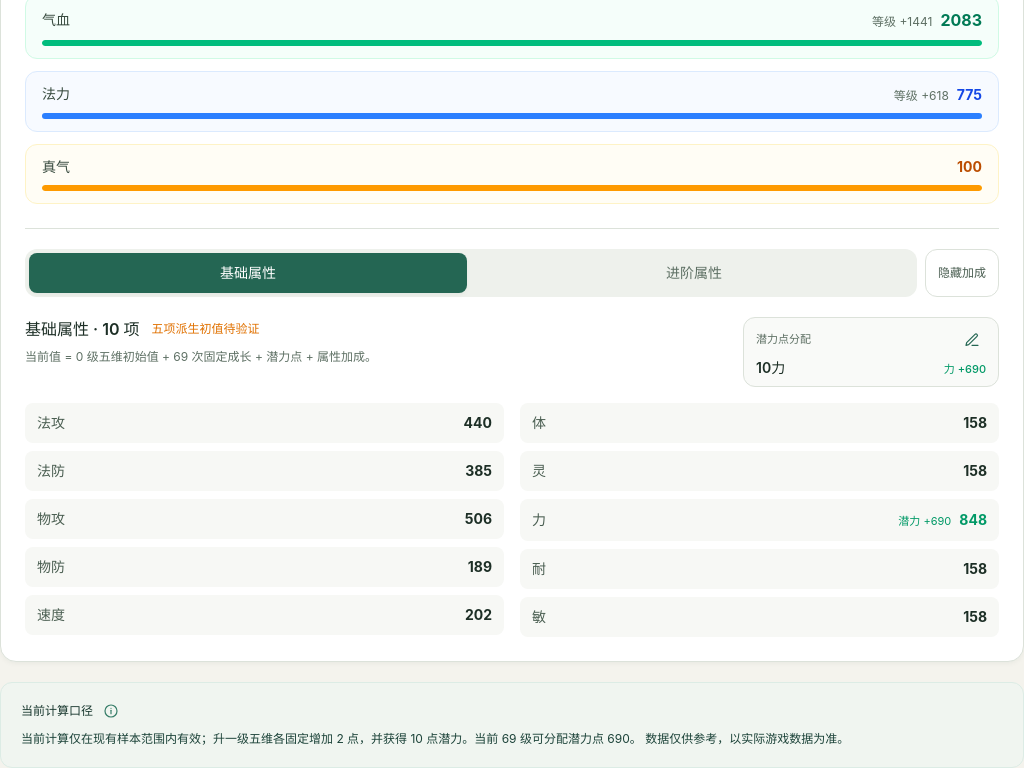
Scenario: CharacterAttributeCalculator › 应该通过信息弹窗说明当前计算口径和数据范围
This screenshot has width=1024, height=768.
(page scrolled)
Check: the text "当前计算仅在现有样本范围内有效" is shown, box 21,730 -> 502,746
Click the button named "查看当前计算口径详情": (111, 710) 99,698 -> 123,722
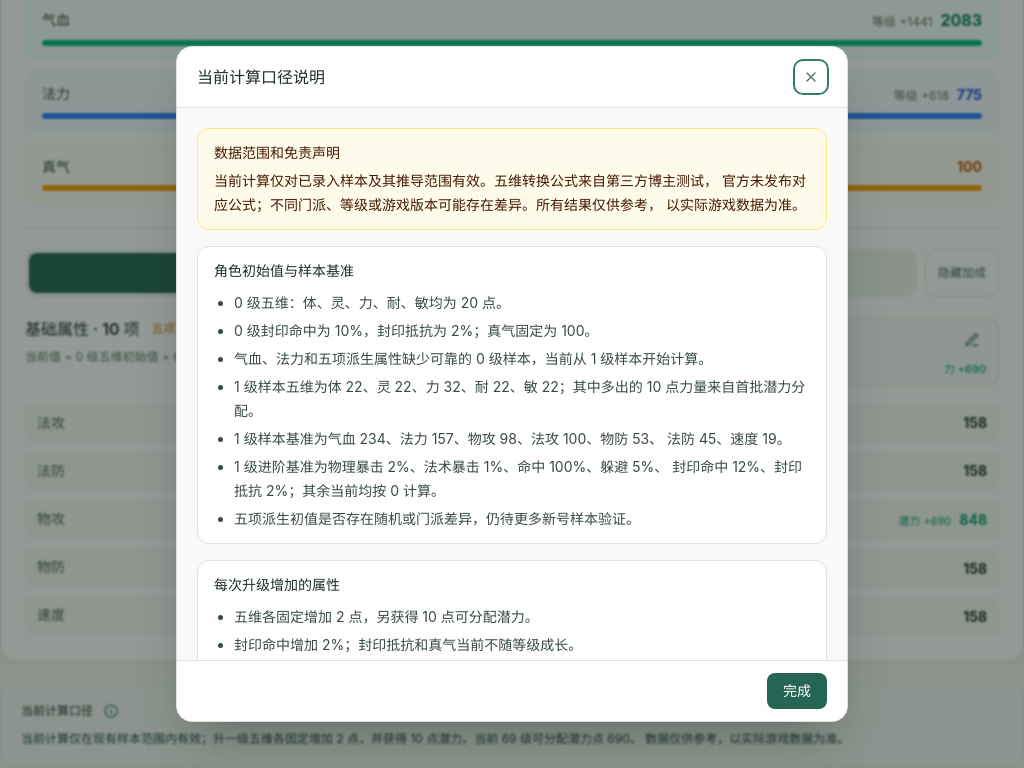
Check: the dialog "当前计算口径说明" shows "五维转换公式来自第三方博主测试， 官方未发布对应公式", box 214,172 -> 806,213
Check: the dialog "当前计算口径说明" shows "所有结果仅供参考， 以实际游戏数据为准", box 214,172 -> 806,213
Check: the dialog "当前计算口径说明" shows "0 级五维：体、灵、力、耐、敏均为 20 点", box 234,294 -> 510,311
Click the button "完成": (797, 691) 767,673 -> 827,709
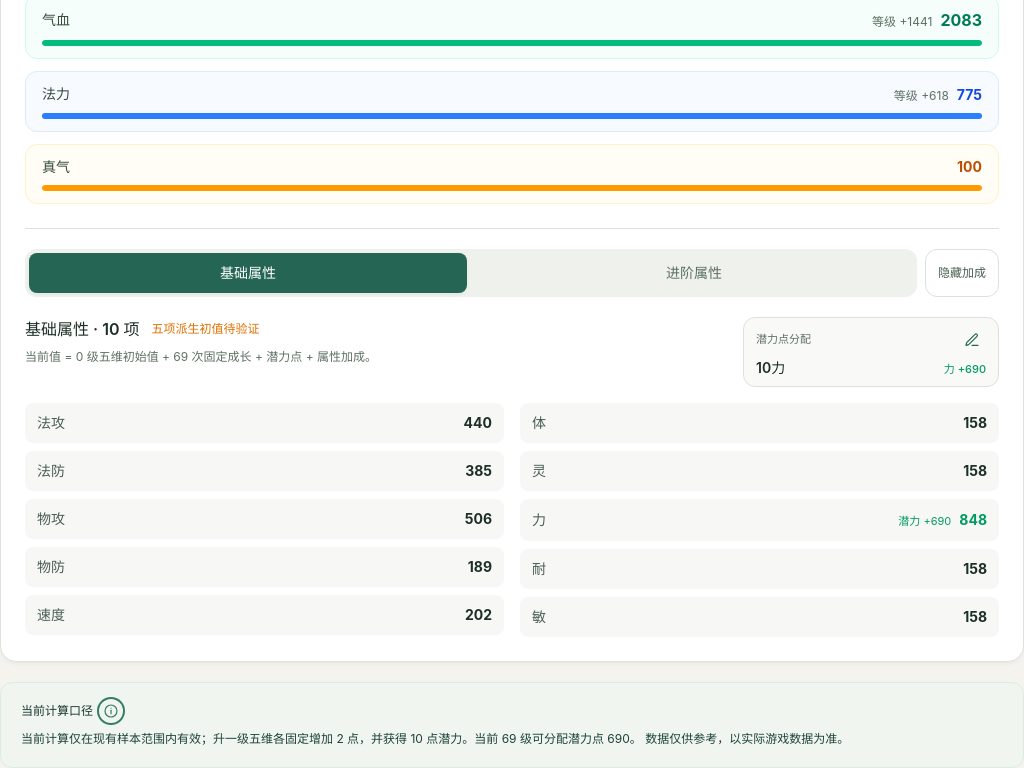
Check: the dialog is gone
